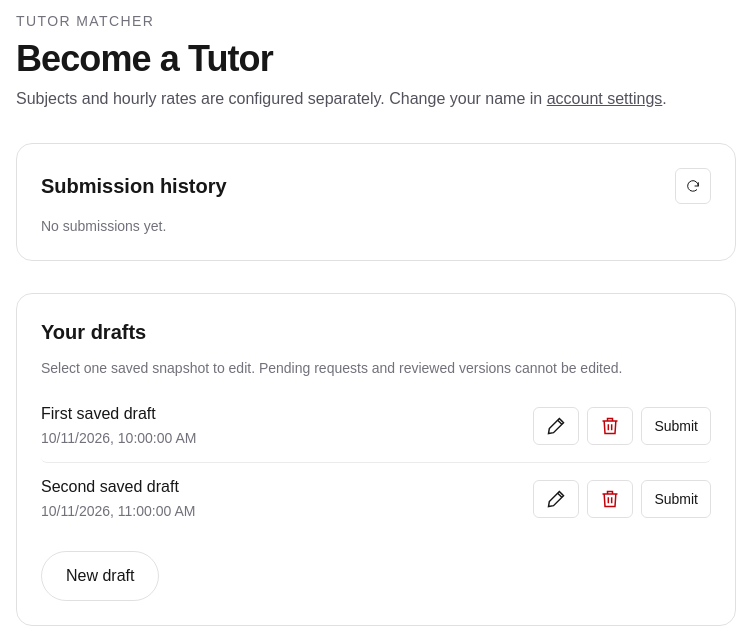
Test: deletes the selected persisted draft from its row only
Click the button named "Trash draft 2: Second saved draft".
click(610, 499)  # box [587,480,633,518]
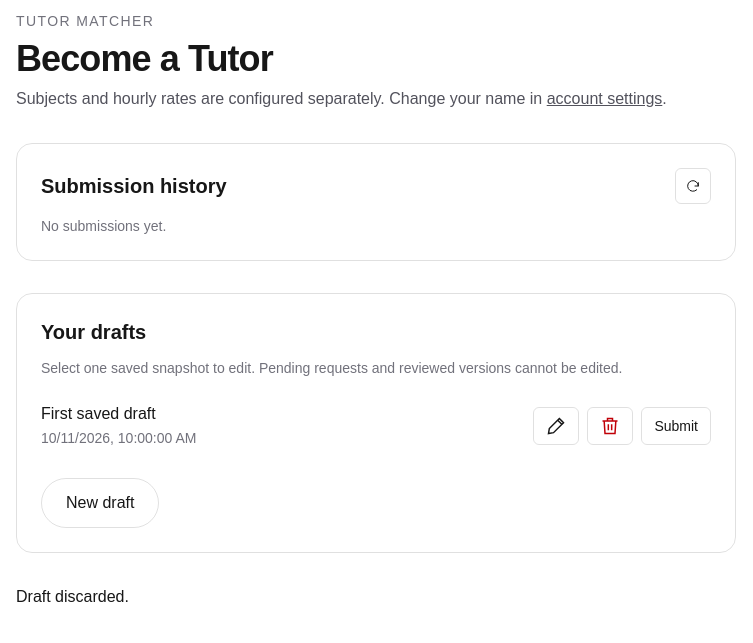
Expected: the button named "Edit draft 1: First saved draft" is shown, [533,407,579,445]
Expected: the text "Draft discarded." is shown, [16,588,129,605]
